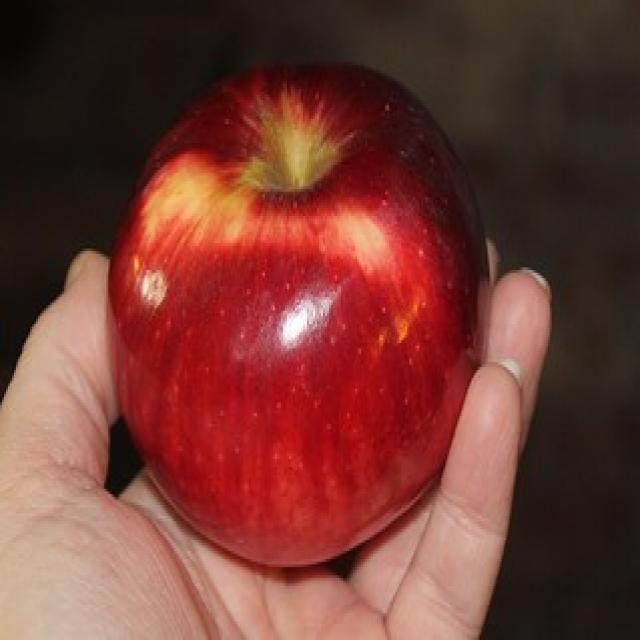Apple: (108, 56, 496, 569)
